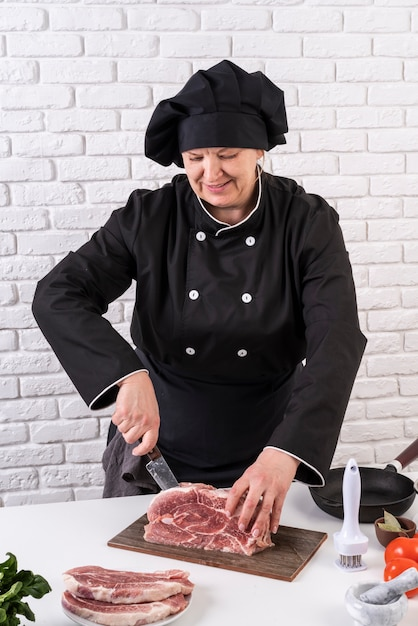knife: (144, 447, 181, 490)
